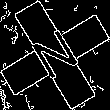N_SE: (24, 23, 86, 87)
